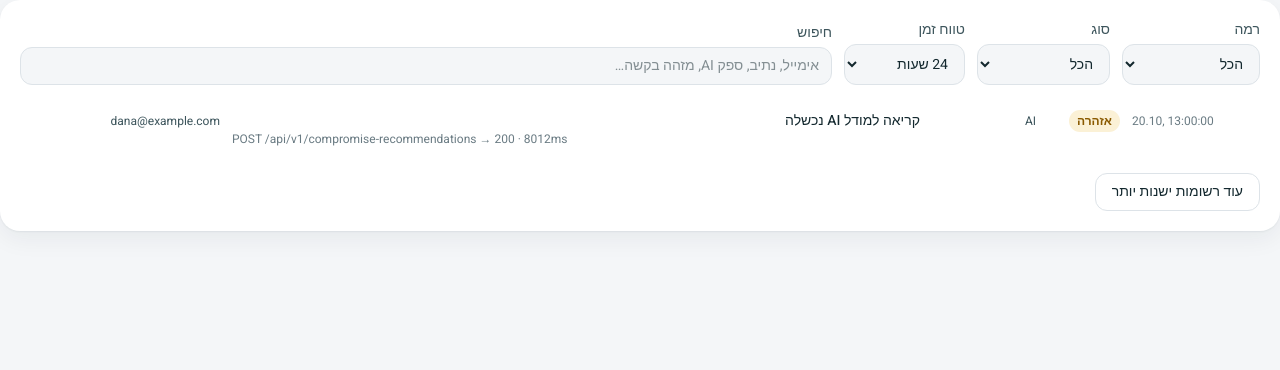
Scenario: LogsTab › shows entries in Hebrew with their request, user and details
The image size is (1280, 370).
Click the button "קריאה למודל AI נכשלה": (1173, 121) [20,101,1260,157]
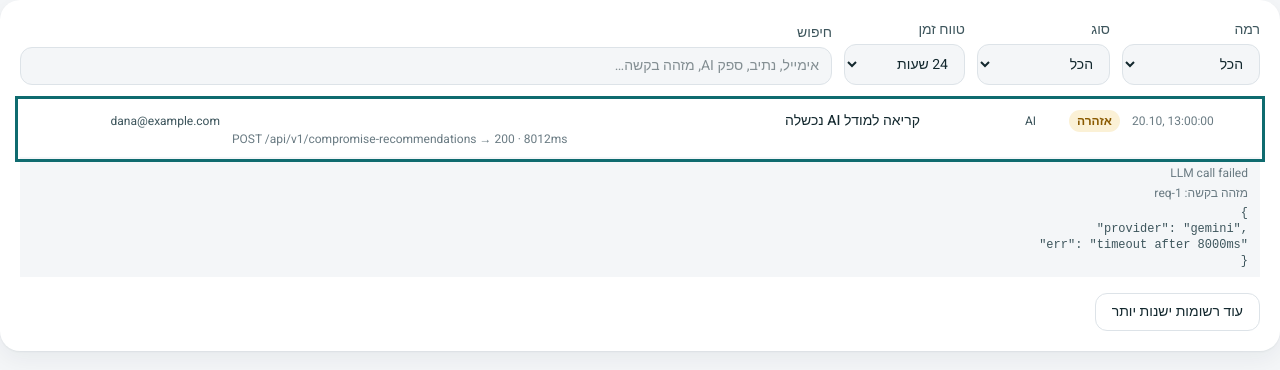
Check: the text "{ \"provider\": \"gemini\", \"err\": \"timeout after 8000ms\" }" is shown, box [1025,206,1248,268]
